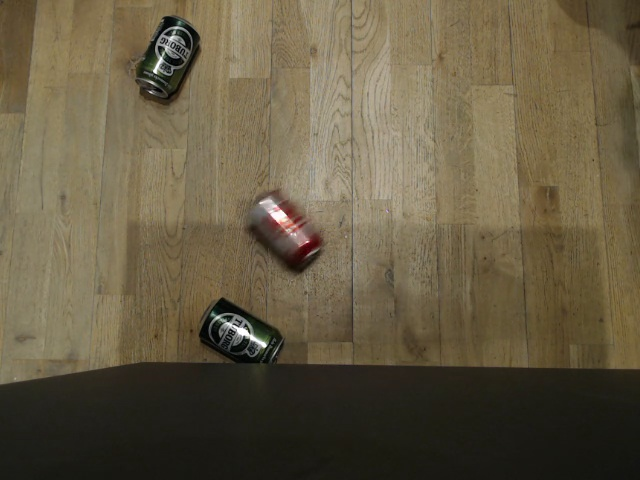beer: (193, 294, 286, 368), (133, 14, 204, 102)
cola: (244, 186, 326, 273)
